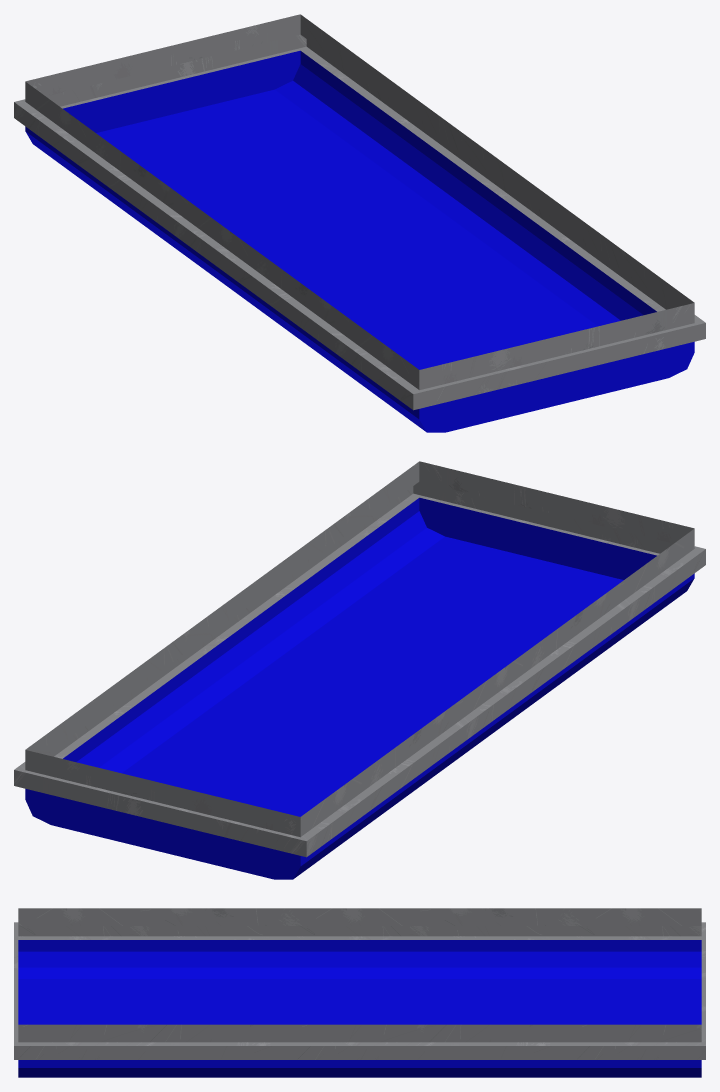
File: hallwayLIght.fbx
3 renders of one model, top to bottom at view 1: azimuth 30°, elevation 25°; view 2: azimuth 150°, elevation 25°; view 3: azimuth 270°, elevation 25°, orthographic. The views are drawn at different scales.
Visible parts, largest first — view 1: hallway_light; view 2: hallway_light; view 3: hallway_light.
Part boxes in pixels (box(x1,y1,x2,y2)): hallway_light: box(14, 14, 705, 432); hallway_light: box(14, 461, 705, 879); hallway_light: box(14, 908, 705, 1077).
Bounding box in the file's own units: 1.5 × 0.3379 × 3.55.
2 materials, 1 textured.
